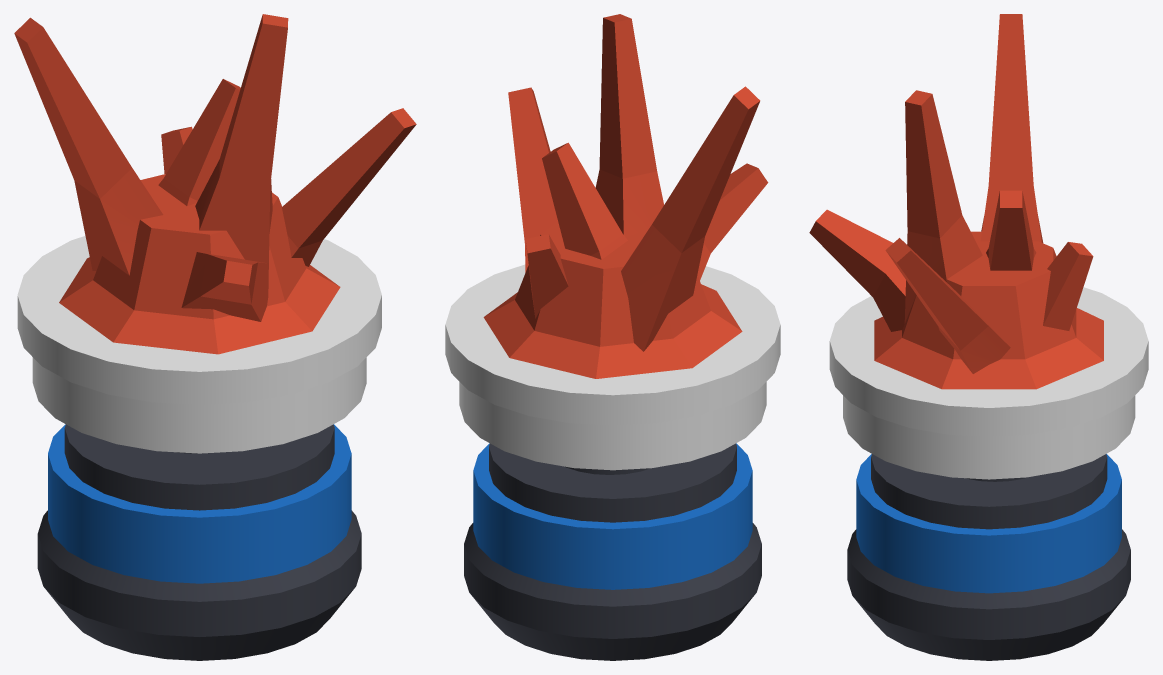
The model's file is tower_red_coral.obj.
The picture shows the model from 3 angles, left to right: view 1: azimuth 30°, elevation 25°; view 2: azimuth 150°, elevation 25°; view 3: azimuth 270°, elevation 25°; orthographic projection. The views are drawn at different scales.
Visible parts, largest first — view 1: mergedBlocks; view 2: mergedBlocks; view 3: mergedBlocks.
Boxes of the visible parts, bbox=[...] form: mergedBlocks: bbox=[14, 14, 416, 660]; mergedBlocks: bbox=[445, 14, 780, 660]; mergedBlocks: bbox=[809, 14, 1148, 660].
Size of the model in its own units: 1.13 by 1.99 by 1.15.
